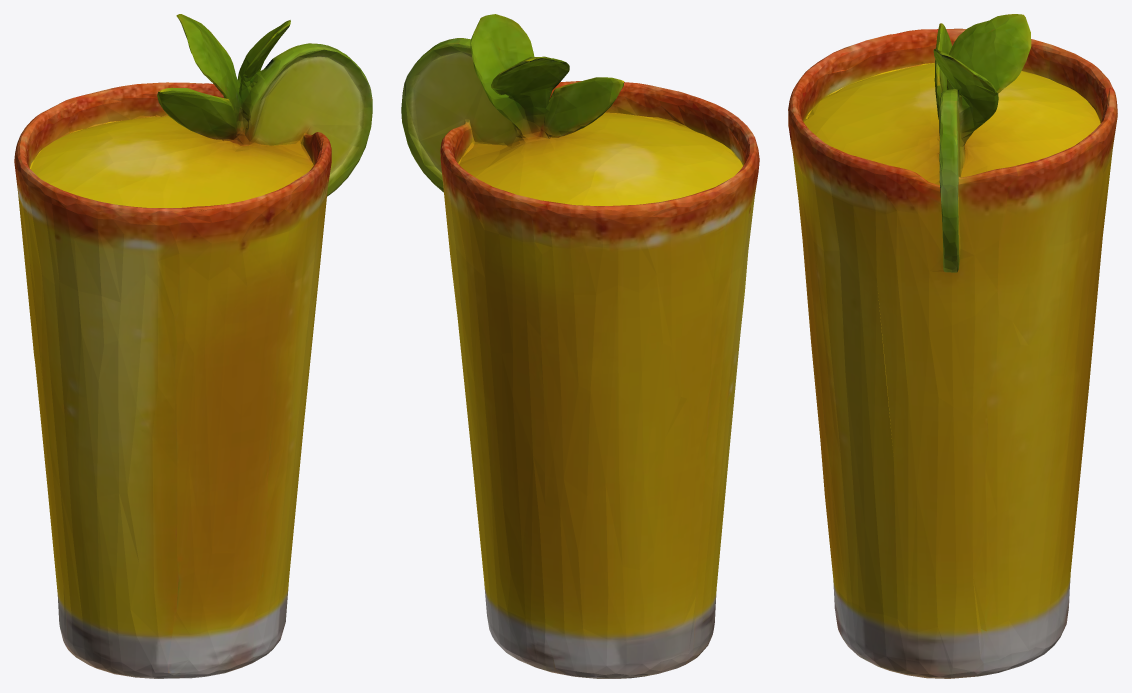
Rendered from p_marg.glb.
3 views of the same model, side by side, from view 1: azimuth 30°, elevation 25°; view 2: azimuth 150°, elevation 25°; view 3: azimuth 270°, elevation 25° (orthographic). The views are drawn at different scales.
Visible parts, largest first — view 1: geometry_0; view 2: geometry_0; view 3: geometry_0.
Part boxes in pixels (<box>): geometry_0: <box>14,14,372,678</box>; geometry_0: <box>401,14,759,678</box>; geometry_0: <box>788,14,1117,678</box>.
Size of the model in its own units: 0.5954 by 0.9997 by 0.4685.
Materials: 1 (1 with a texture image).
